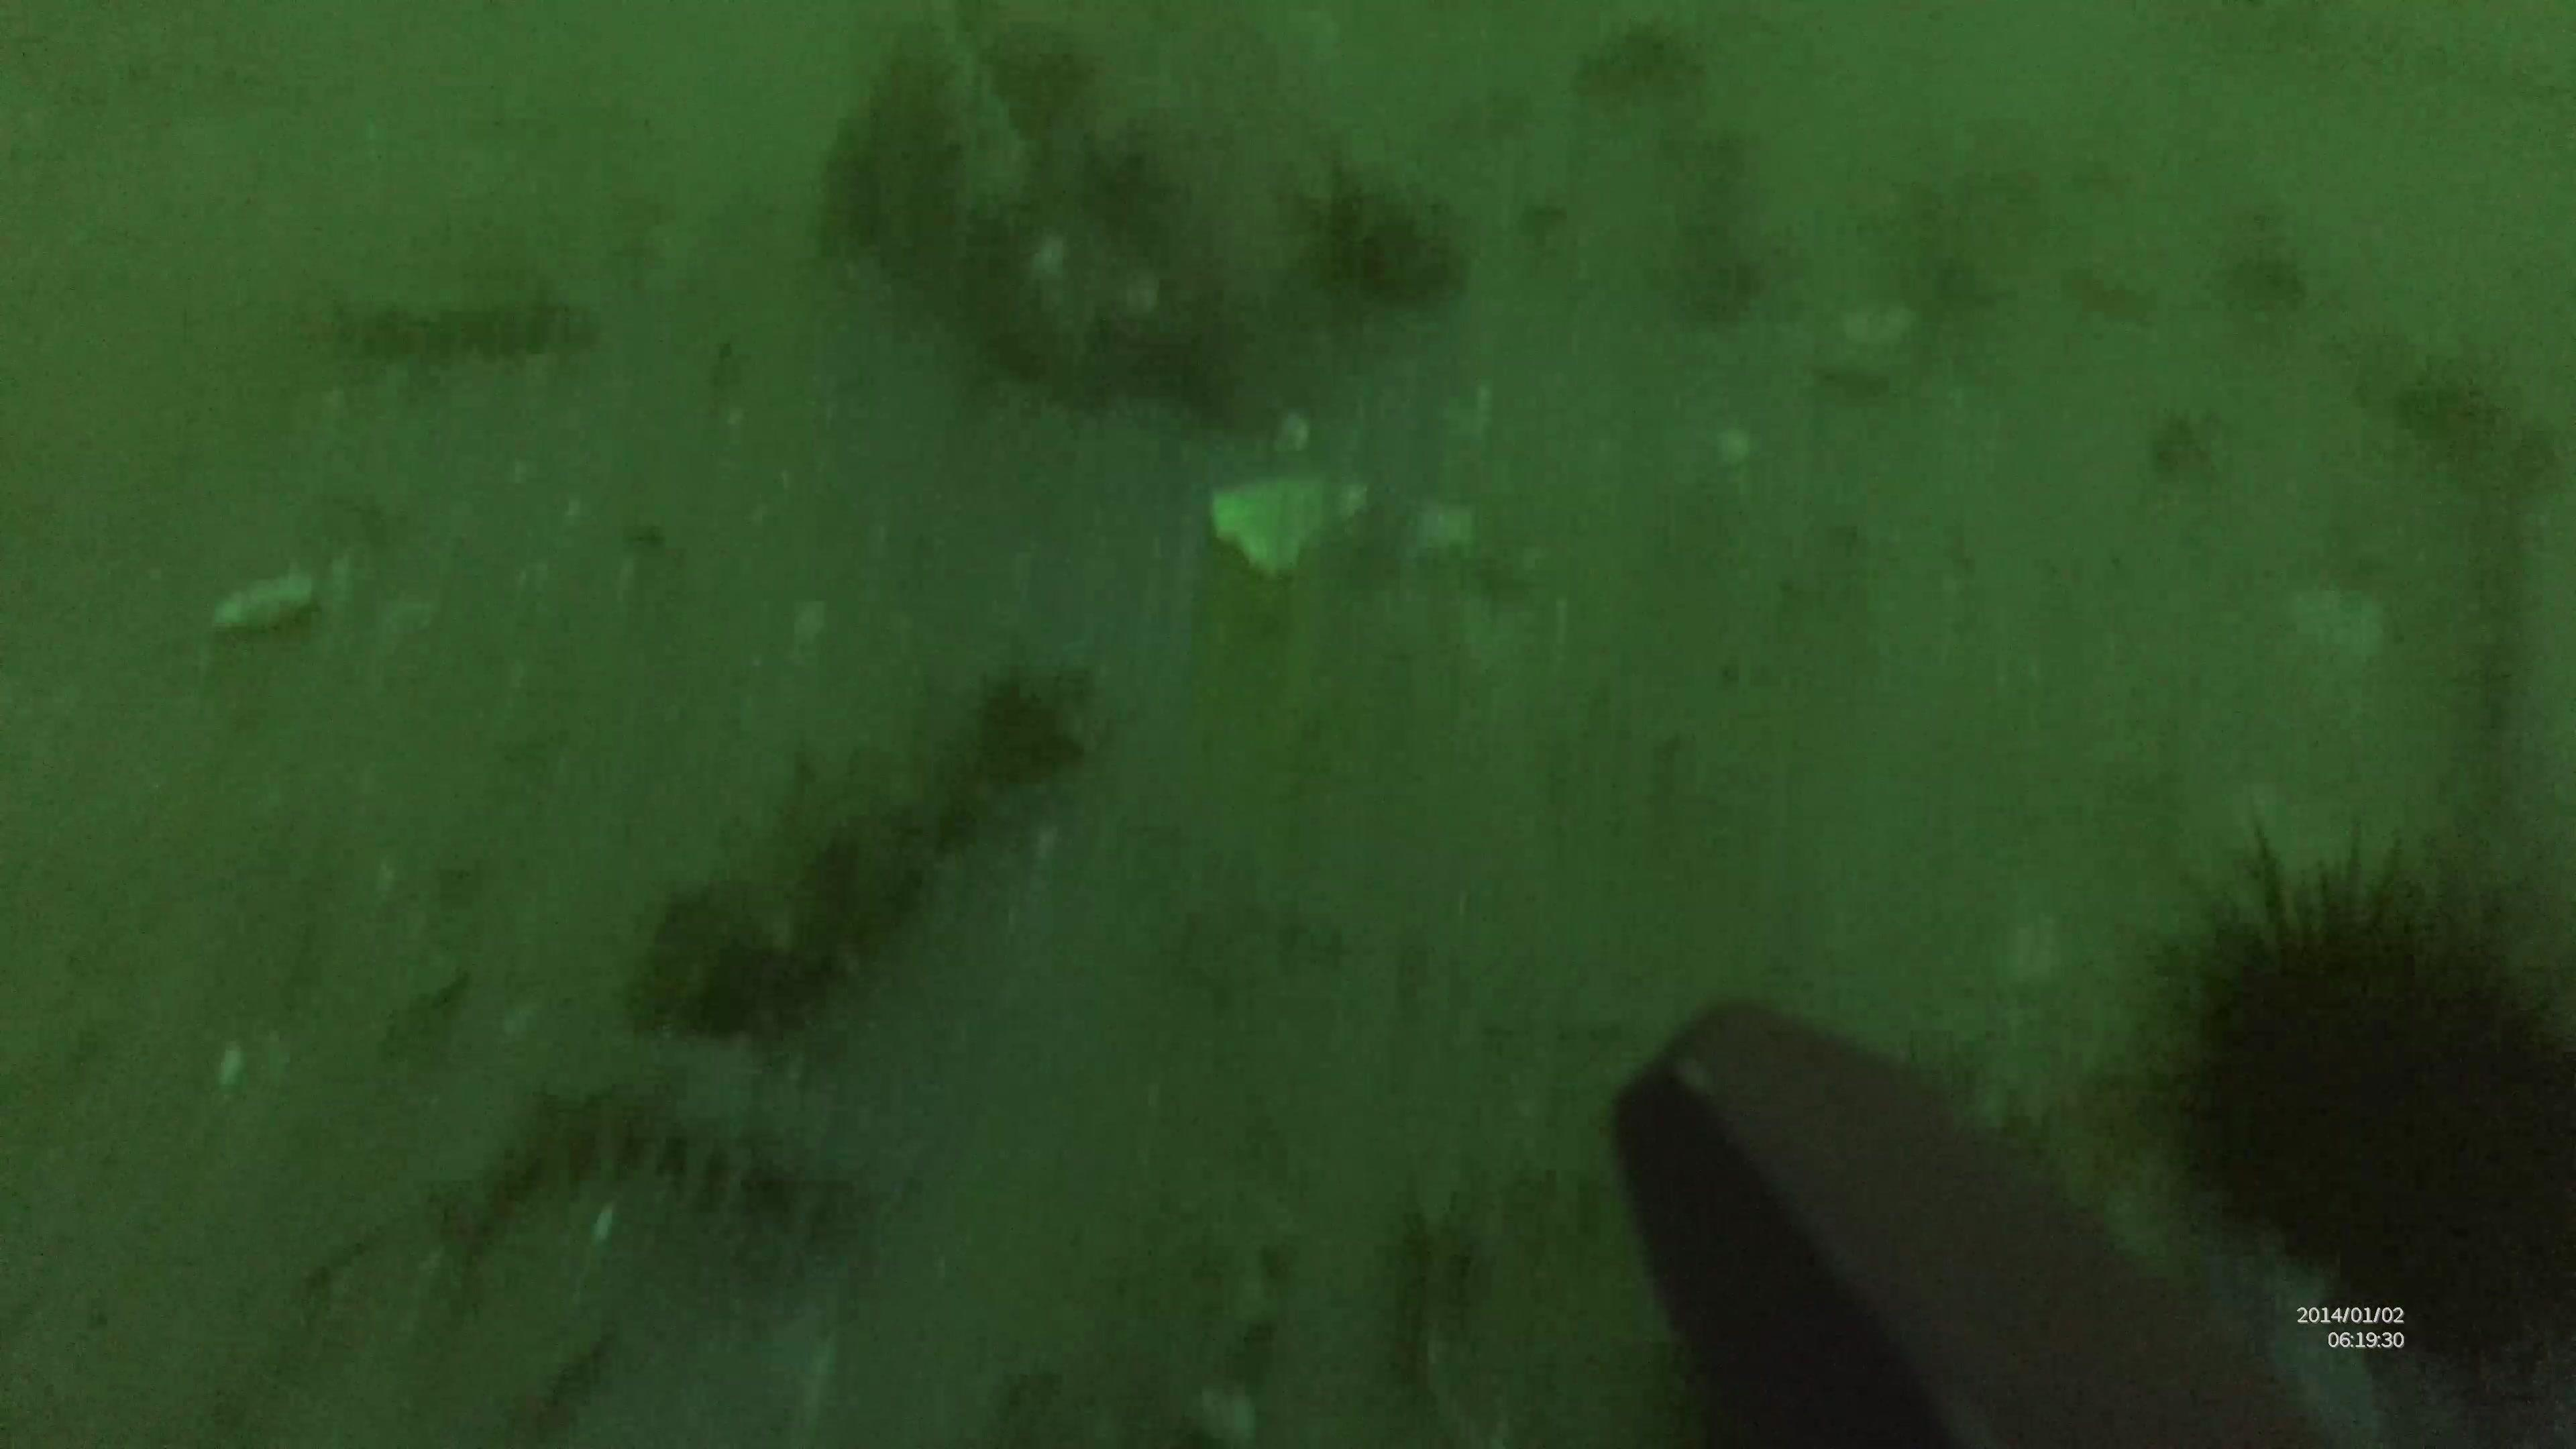echinus: (2114, 816, 2576, 1371)
holothurian: (632, 660, 1085, 1054), (439, 1072, 890, 1304)
